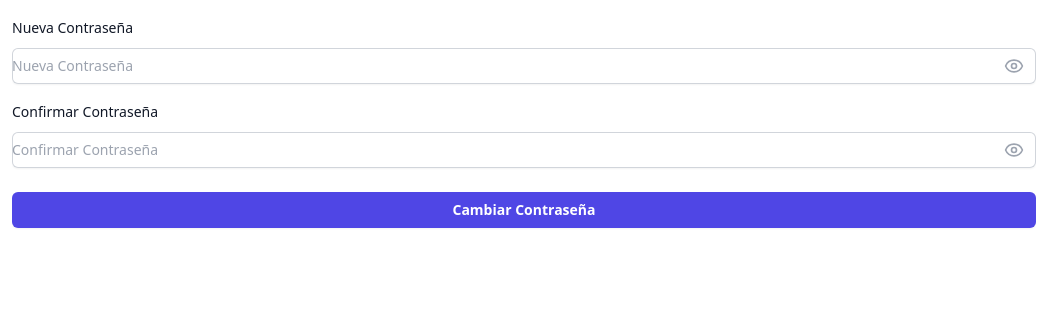
Test: ResetPasswordForm Component › shows error message after submit failure
In the password field labelled "Nueva Contraseña": [524, 66] box [12,48,1036,84], type "password123"
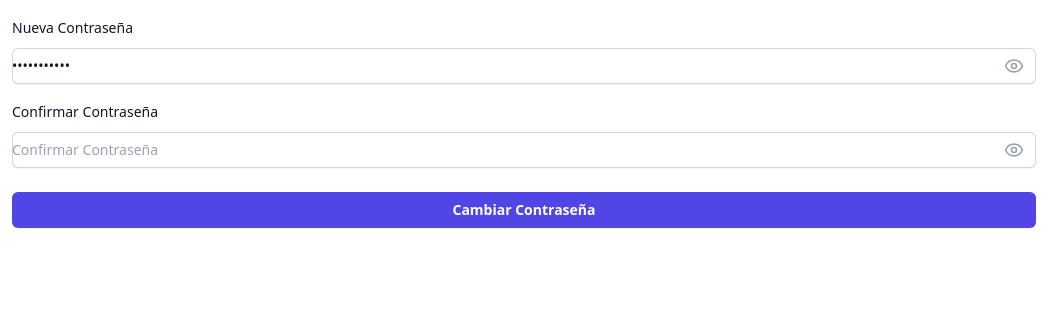
In the password field labelled "Confirmar Contraseña": [524, 150] box [12,132,1036,168], type "password123"
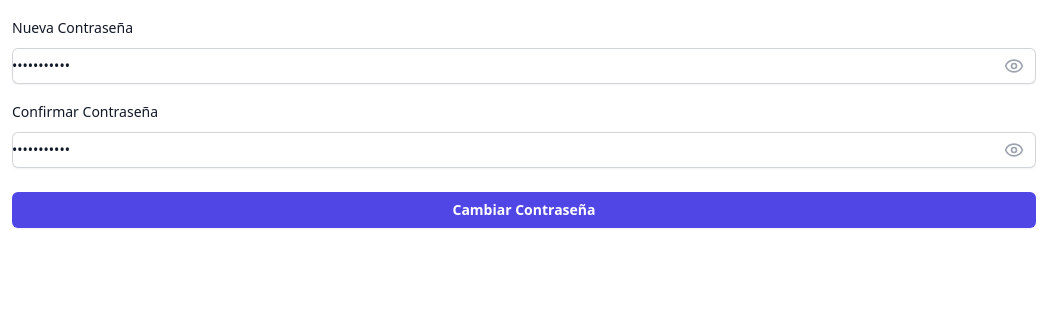
Submit the form "Nueva Contraseña Confirmar Contraseña Cambiar Contraseña"
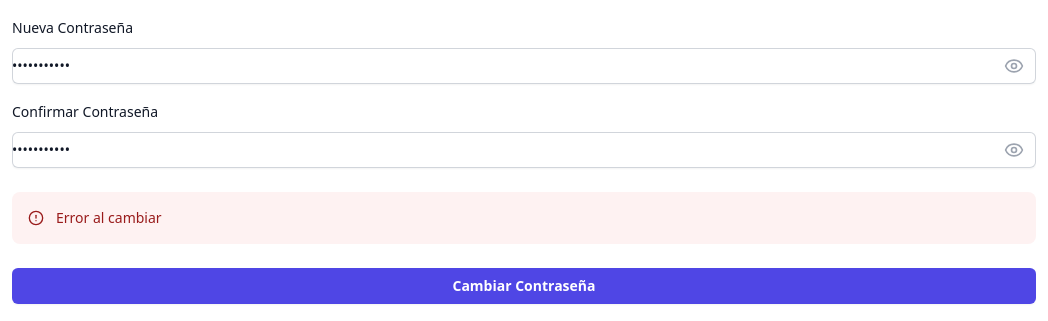
Check: the text "Error al cambiar" is shown, box [56,208,162,228]
